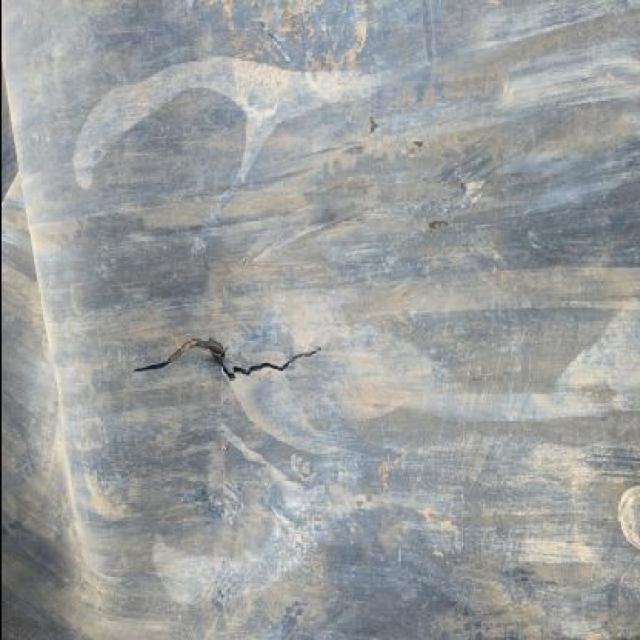Tear: (126, 331, 332, 385)
